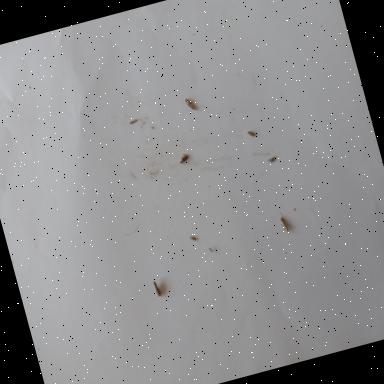pbw: (279, 215, 289, 234), (184, 95, 195, 112), (152, 279, 161, 297), (177, 152, 190, 164), (188, 234, 198, 242), (247, 130, 255, 138)
